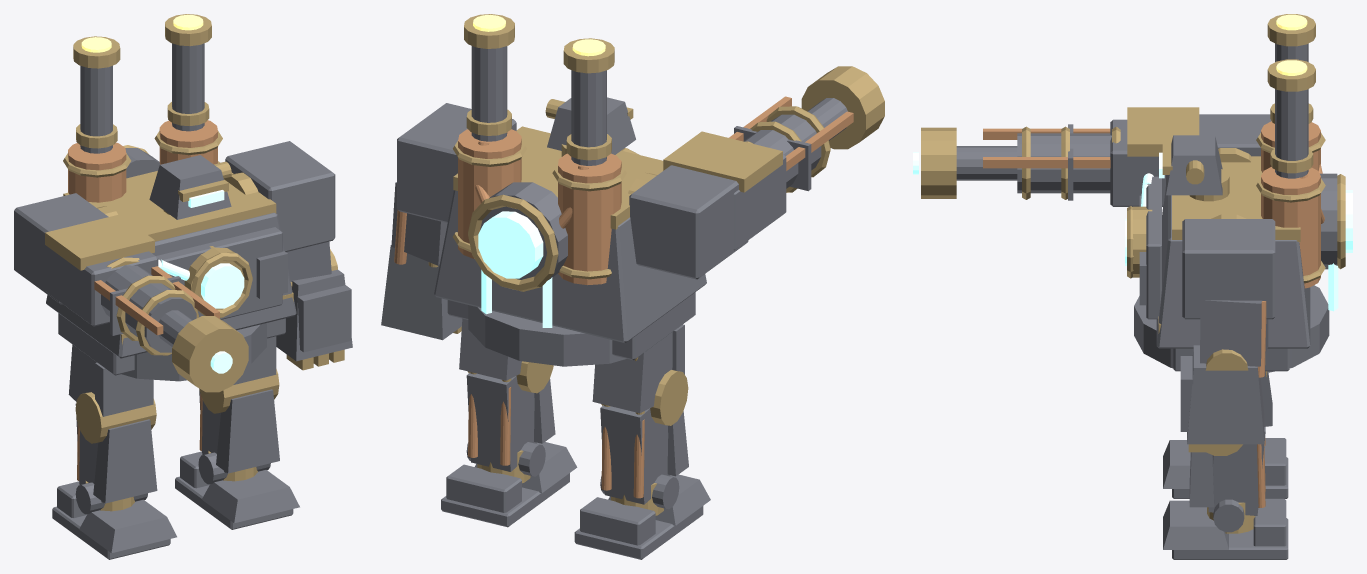
File: gearforge_titan_lod1.glb
The picture shows the model from 3 angles, left to right: view 1: azimuth 30°, elevation 25°; view 2: azimuth 150°, elevation 25°; view 3: azimuth 270°, elevation 25°; orthographic projection. The views are drawn at different scales.
Visible parts, largest first — view 1: gearforge_titan_dark_iron_lod1, gearforge_titan_brass_lod1, gearforge_titan_copper_lod1, gearforge_titan_aether_glow_lod1, gearforge_titan_furnace_glow_lod1; view 2: gearforge_titan_dark_iron_lod1, gearforge_titan_brass_lod1, gearforge_titan_copper_lod1, gearforge_titan_aether_glow_lod1, gearforge_titan_furnace_glow_lod1; view 3: gearforge_titan_dark_iron_lod1, gearforge_titan_brass_lod1, gearforge_titan_copper_lod1, gearforge_titan_aether_glow_lod1, gearforge_titan_furnace_glow_lod1.
Boxes of the visible parts, x1,y1,x2,y2 form: gearforge_titan_dark_iron_lod1: (14, 43, 352, 559); gearforge_titan_brass_lod1: (45, 14, 344, 511); gearforge_titan_copper_lod1: (68, 120, 219, 480); gearforge_titan_aether_glow_lod1: (158, 190, 244, 373); gearforge_titan_furnace_glow_lod1: (81, 14, 203, 52); gearforge_titan_dark_iron_lod1: (381, 46, 847, 559); gearforge_titan_brass_lod1: (428, 14, 884, 515); gearforge_titan_copper_lod1: (394, 96, 853, 498); gearforge_titan_aether_glow_lod1: (478, 211, 552, 327); gearforge_titan_furnace_glow_lod1: (473, 14, 605, 56); gearforge_titan_dark_iron_lod1: (956, 43, 1337, 559); gearforge_titan_brass_lod1: (921, 14, 1345, 533); gearforge_titan_copper_lod1: (983, 121, 1324, 507); gearforge_titan_aether_glow_lod1: (913, 152, 1352, 311); gearforge_titan_furnace_glow_lod1: (1276, 14, 1307, 75).
Bounding box in the file's own units: 7.77 × 11.39 × 9.64.
